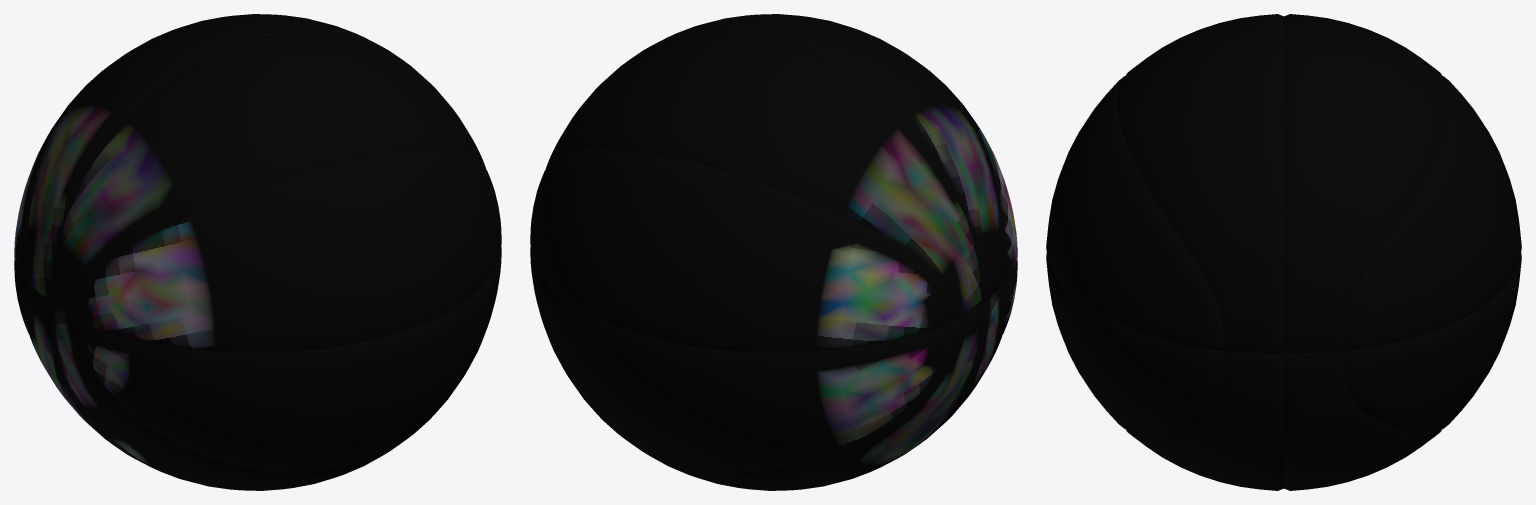
File: Ball_Basketball_SM.glb
3 views of the same model, side by side, from view 1: azimuth 30°, elevation 25°; view 2: azimuth 150°, elevation 25°; view 3: azimuth 270°, elevation 25° (orthographic).
Parts seen in each view (by area): view 1: Ball_Basketball_SM; view 2: Ball_Basketball_SM; view 3: Ball_Basketball_SM.
Boxes of the visible parts, x1,y1,x2,y2 form: Ball_Basketball_SM: (14,14,501,490); Ball_Basketball_SM: (530,14,1017,490); Ball_Basketball_SM: (1046,14,1521,490).
Size of the model in its own units: 1.92 by 1.89 by 1.89.
Materials: 1 (1 with a texture image).
